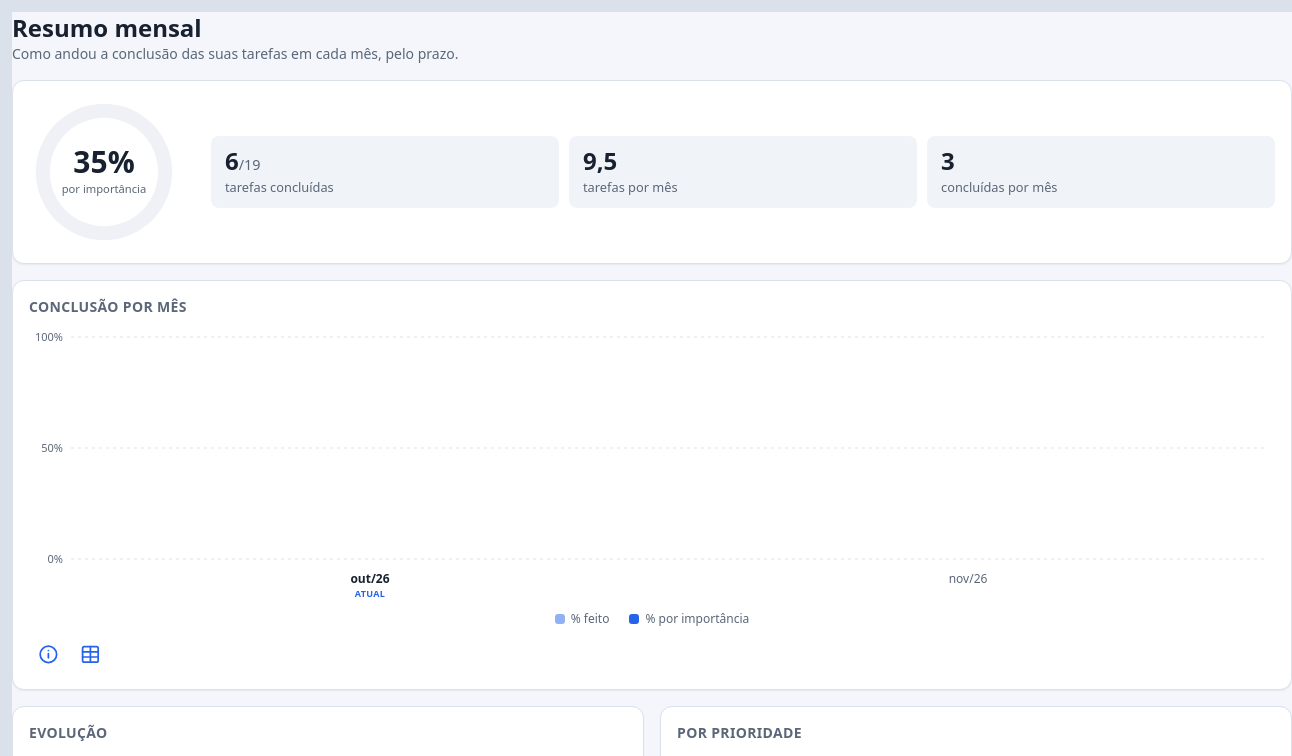
Scenario: ResumoPage › "Como é calculado" explica os dois percentuais e os pesos
Click the button named "Como é calculado" at [48, 654], box 29,635 -> 67,673
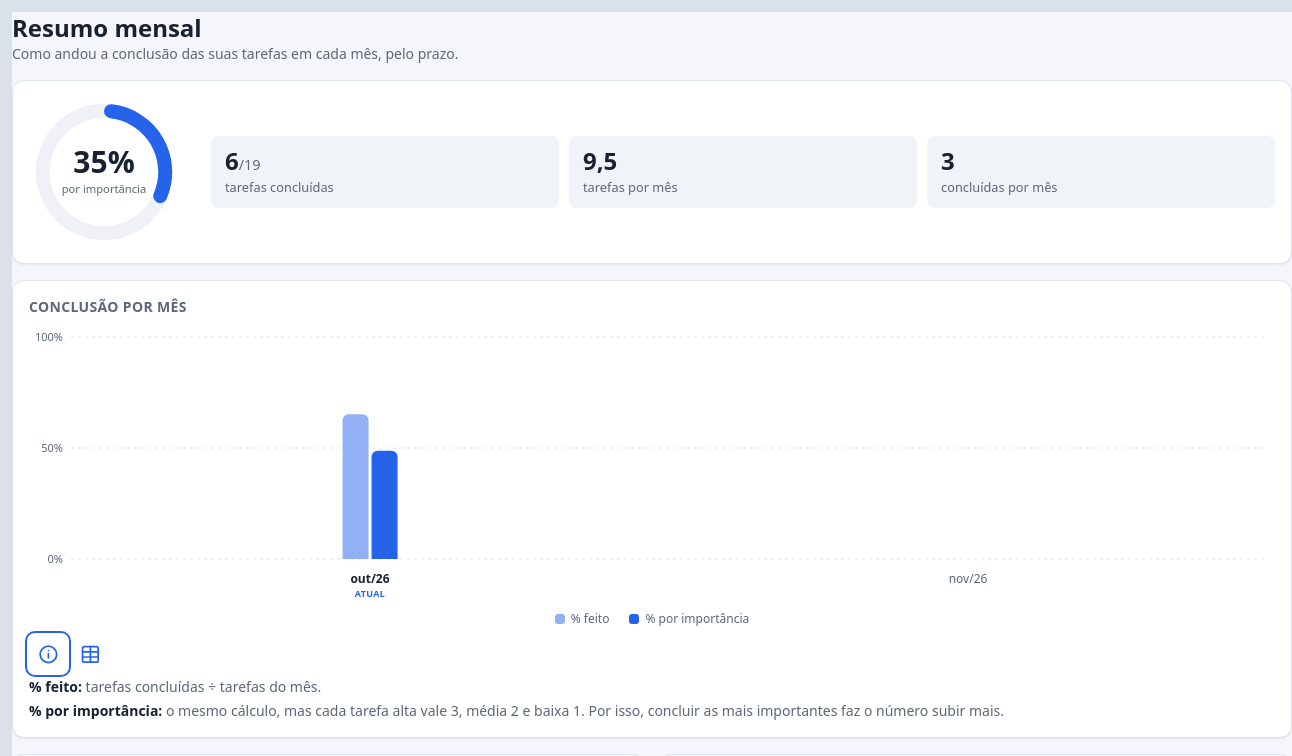
Check: the text "alta vale 3, média 2 e baixa 1" is shown, box 29,701 -> 1004,720
Check: the text "% feito: tarefas concluídas ÷ tarefas do mês." is shown, box 29,677 -> 321,696
